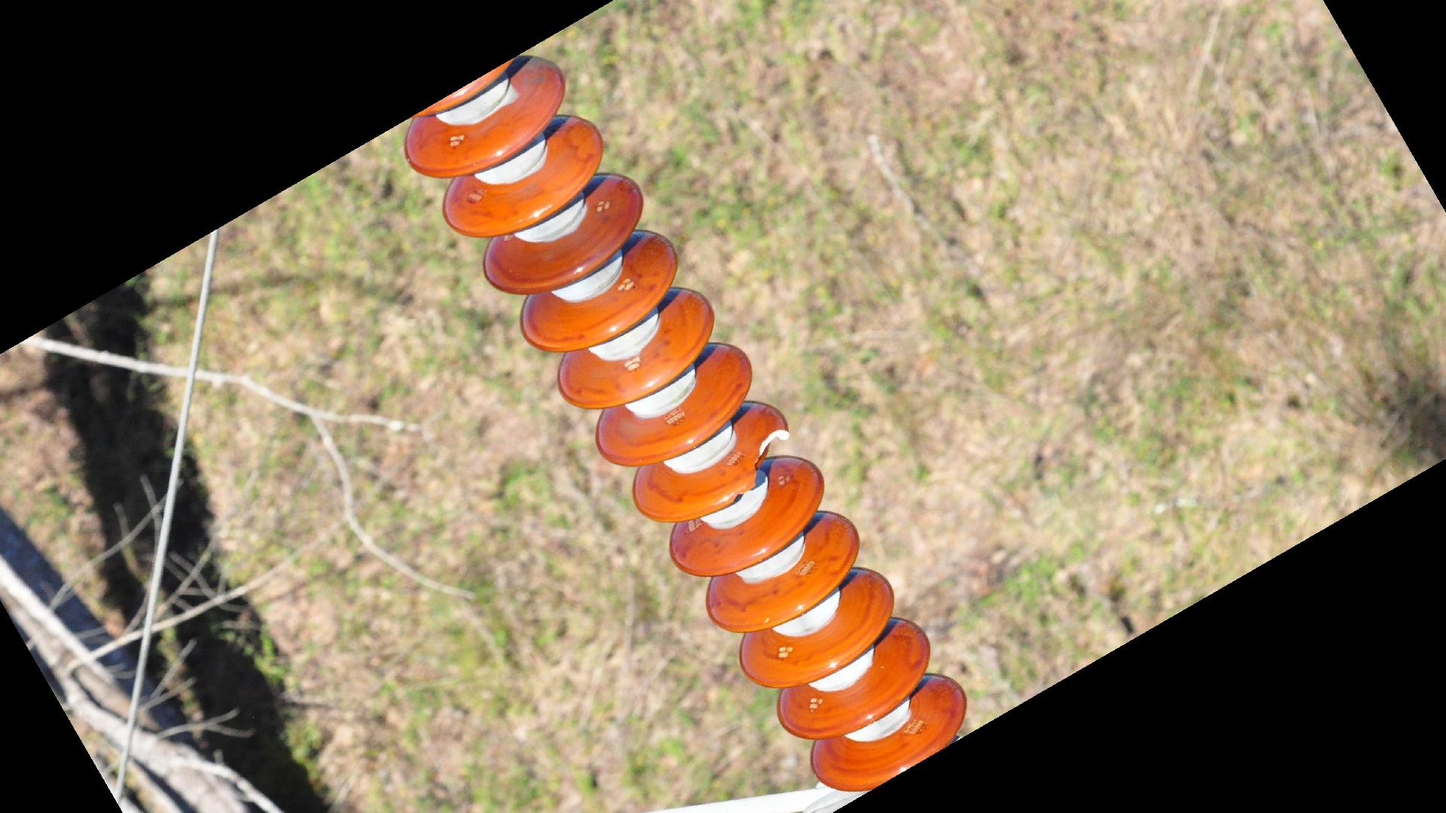insulator: (398, 45, 974, 798)
insulator_breakage: (748, 425, 795, 494)
